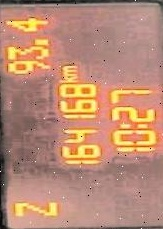-: (27, 38, 49, 46)
0: (107, 127, 159, 145)
1: (110, 145, 160, 152), (58, 158, 102, 165), (57, 112, 99, 119)
2: (106, 106, 154, 121)
3: (2, 44, 53, 59)
4: (3, 13, 52, 32), (58, 125, 100, 144)
6: (56, 97, 99, 112), (59, 144, 104, 157)
7: (106, 86, 154, 103)
8: (55, 82, 99, 98)
9: (5, 59, 52, 73)
X: (9, 200, 59, 216), (116, 121, 150, 128), (59, 64, 79, 74), (56, 75, 79, 82)
